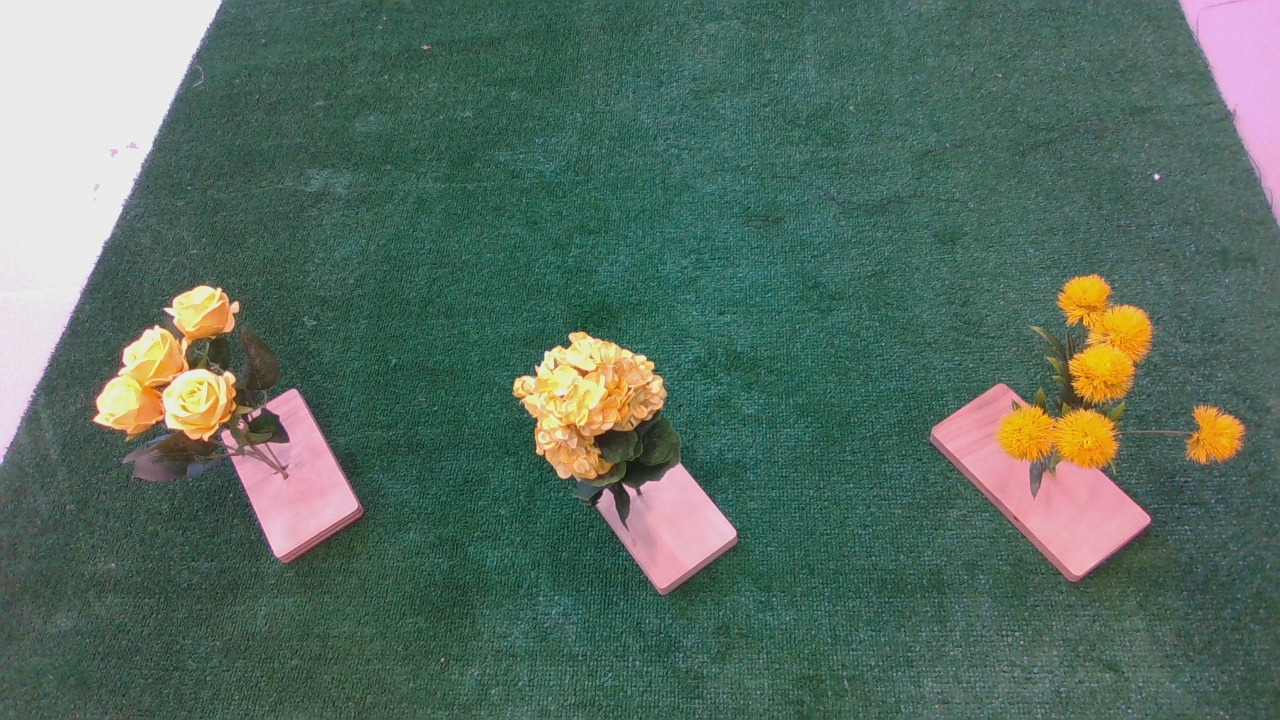dandelion: (1001, 277, 1258, 485)
geranium: (504, 331, 693, 506)
rose: (91, 281, 278, 494)
